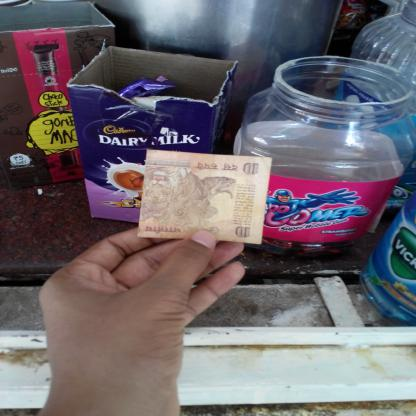Old10Back: (135, 148, 273, 246)
